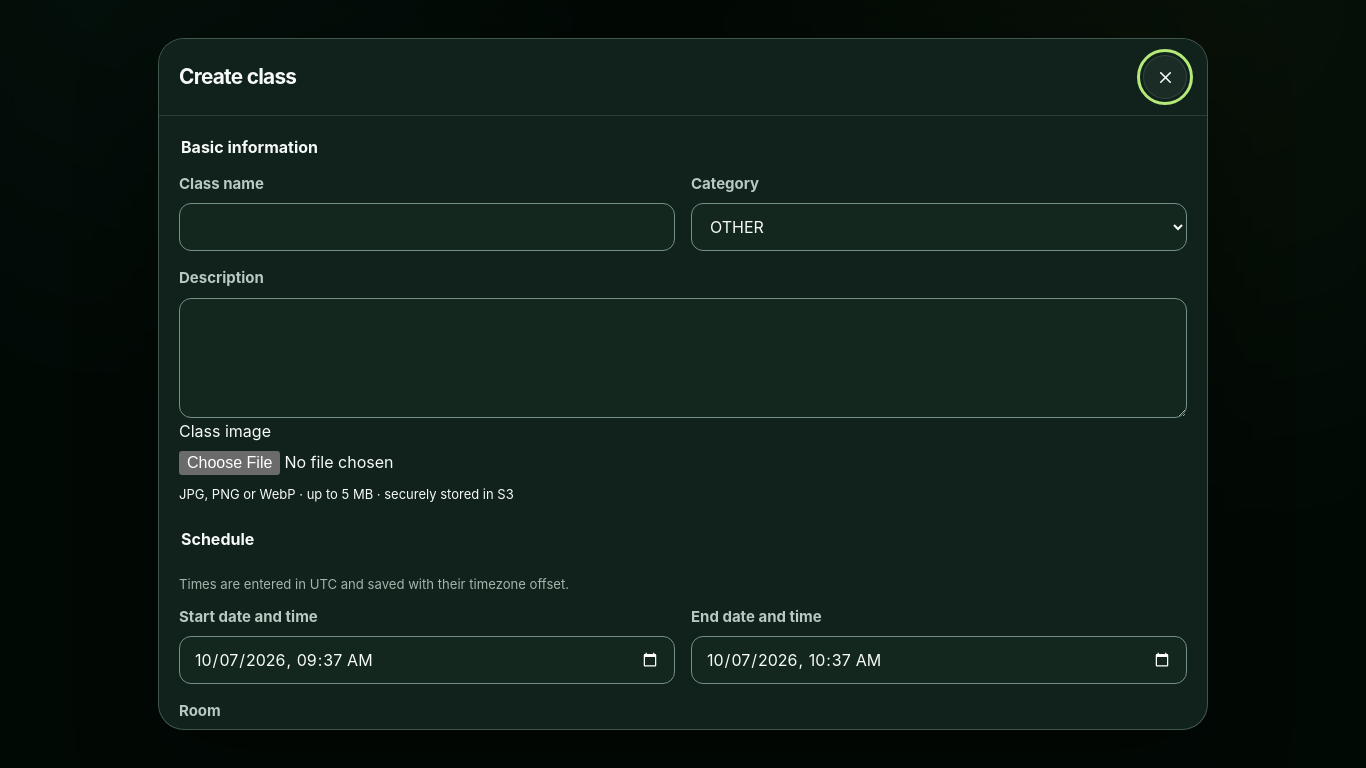
Test case: displays a field-specific backwards-time error and does not submit invalid class data
Replace the text in the field named "endsAt" with "2020-01-01T08:00": (939, 660) [691,636,1187,684]
(page scrolled)
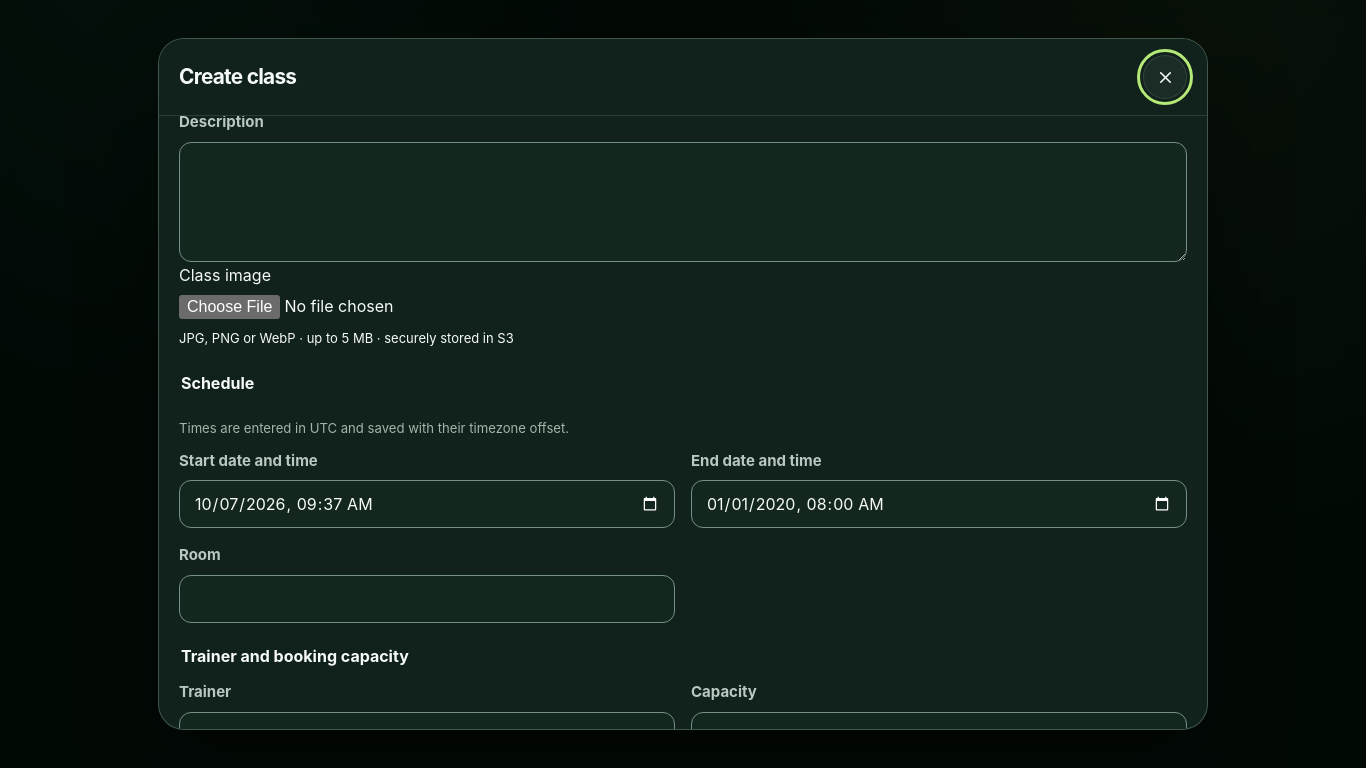
Submit the form
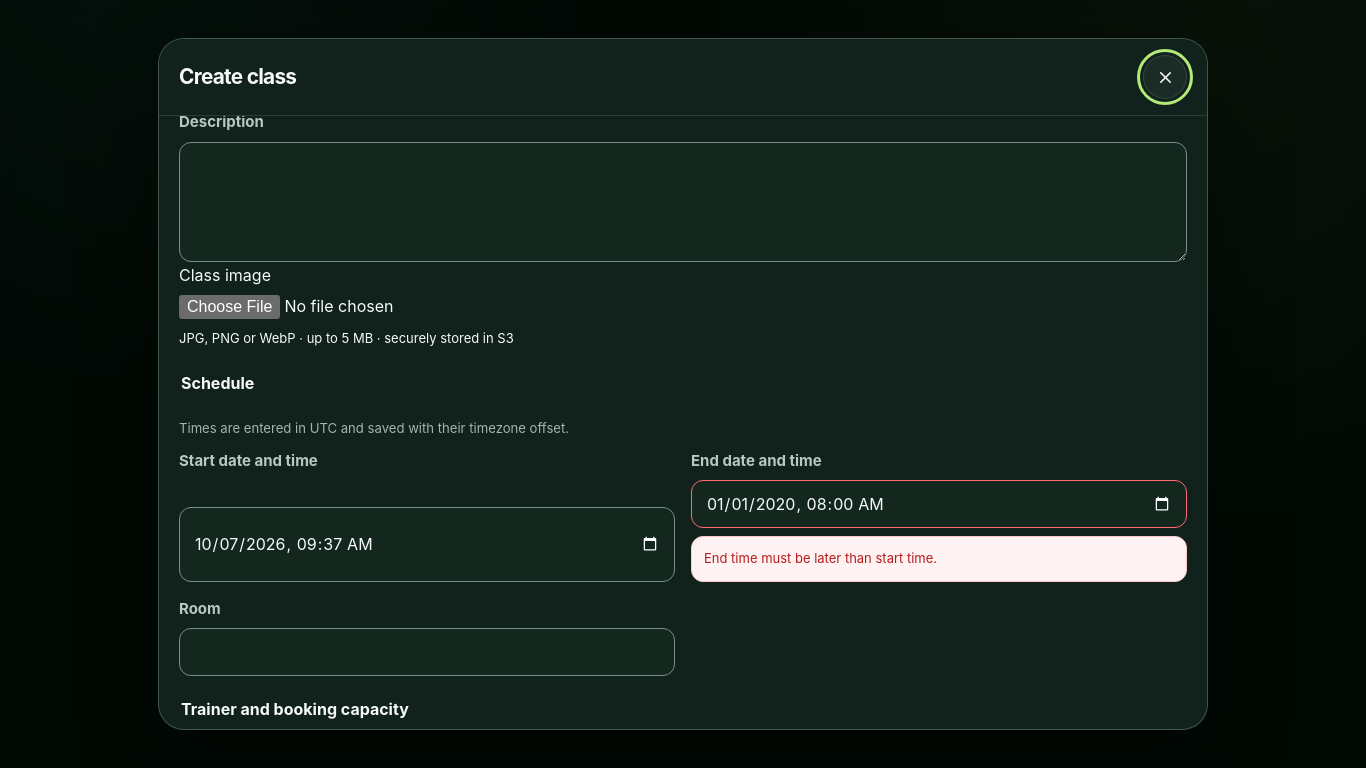
Result: the dialog shows "End time must be later than start time." at [704,550,937,566]
